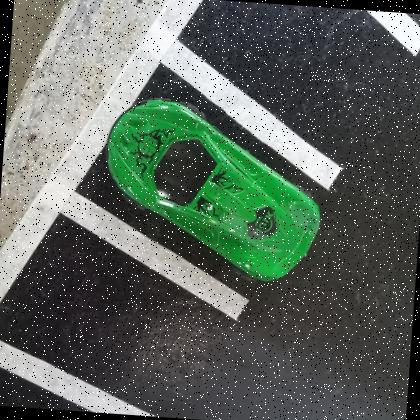Car: (106, 95, 321, 281)
